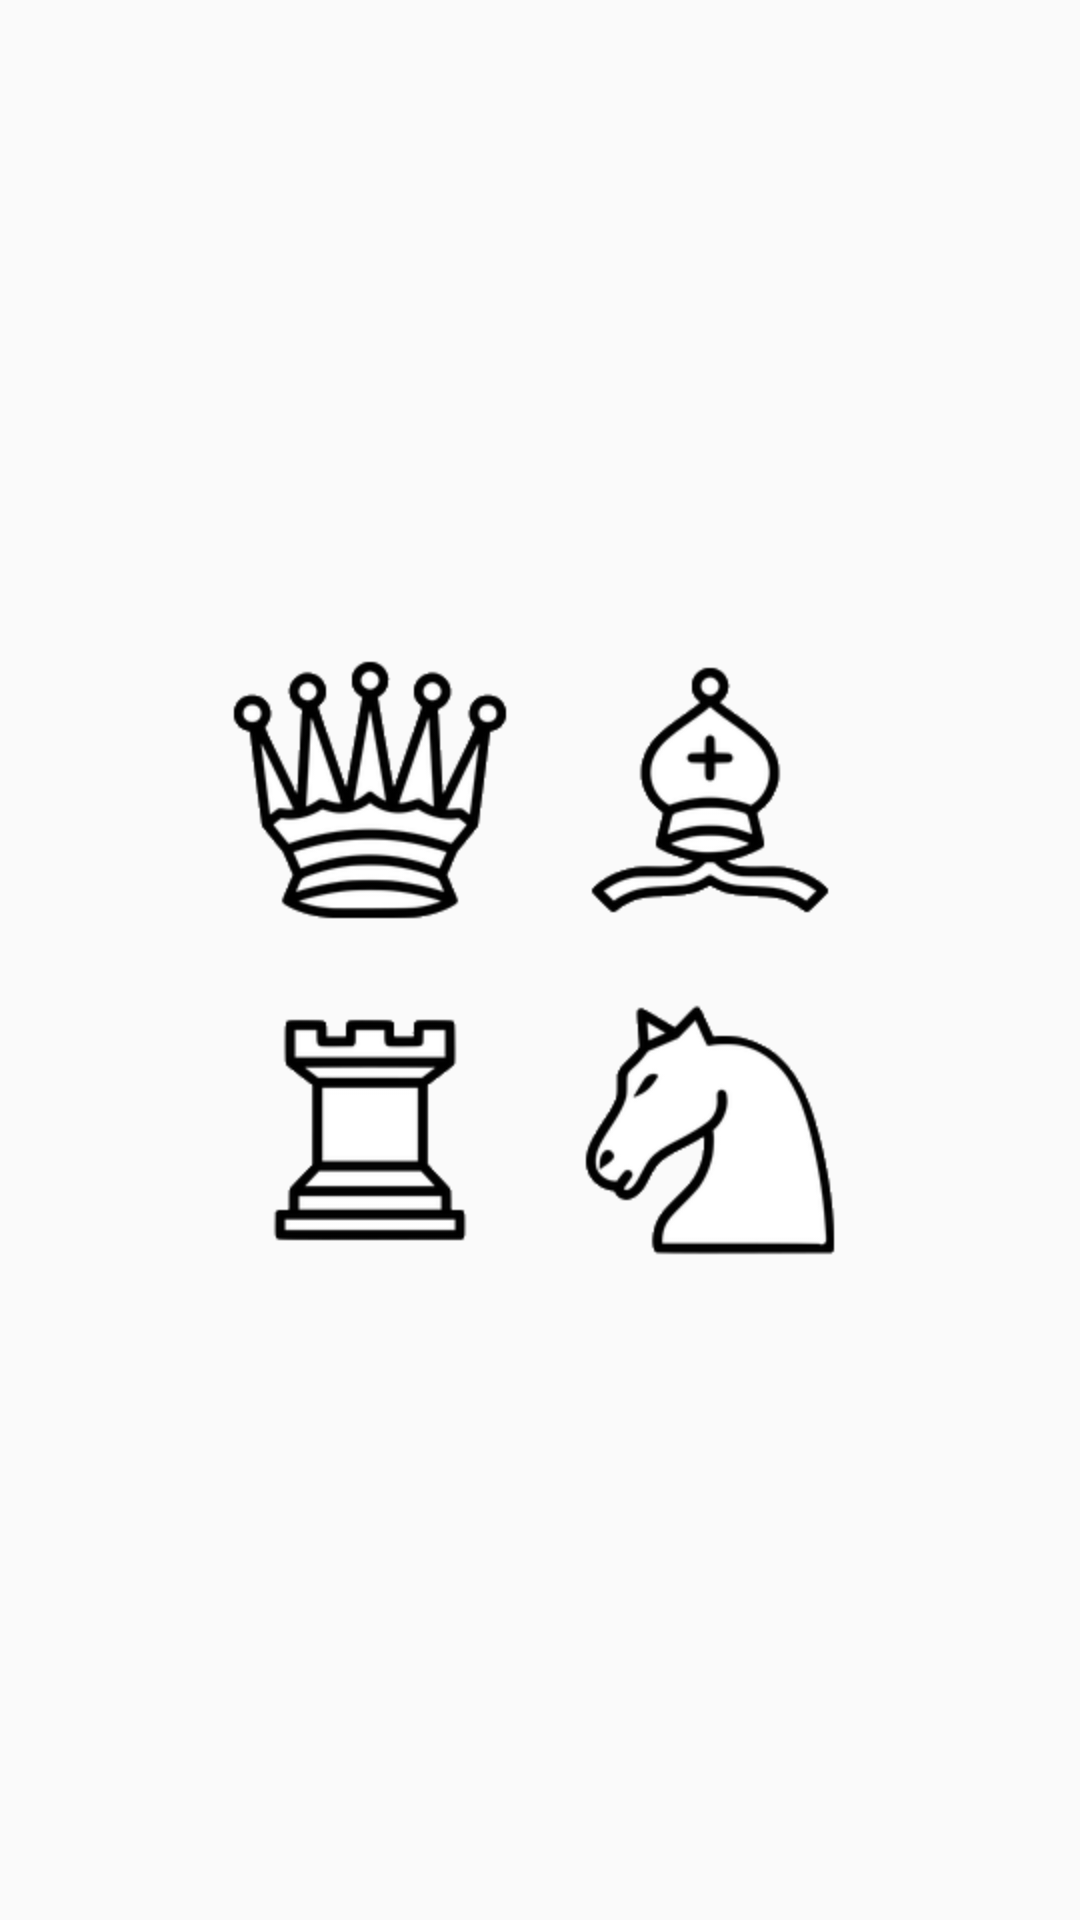

Icons on this 1080px×1920px Android screen, each with its box as (x1, y1, x2, y2):
blanc cavalierpromotion: (585, 1005, 835, 1255)
blanc foupromotion: (591, 667, 829, 913)
blanc reine promotion: (233, 661, 507, 919)
blanc tourpromotion: (273, 1019, 467, 1241)
